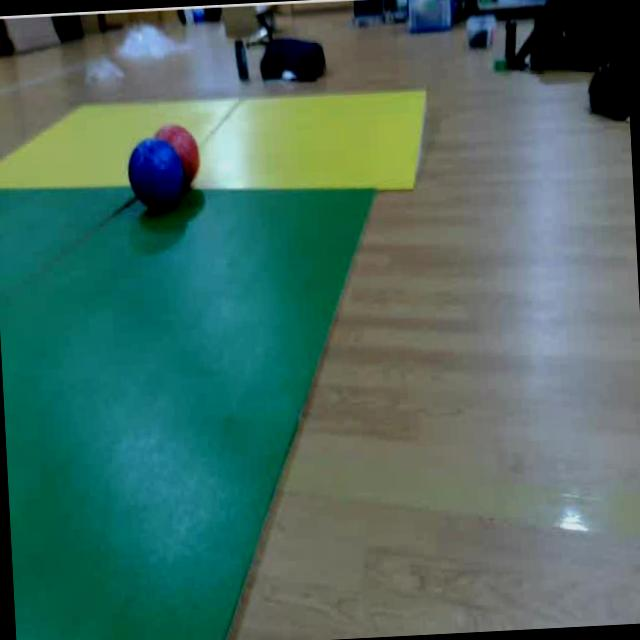blue_ball: (124, 134, 194, 219)
red_ball: (150, 120, 206, 190)
